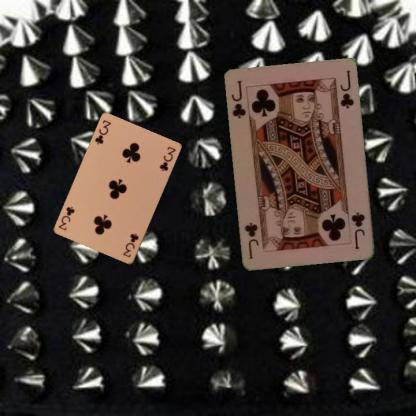3c: (120, 230, 140, 259), (92, 118, 113, 145)
Jc: (230, 78, 248, 120), (349, 210, 366, 250)
